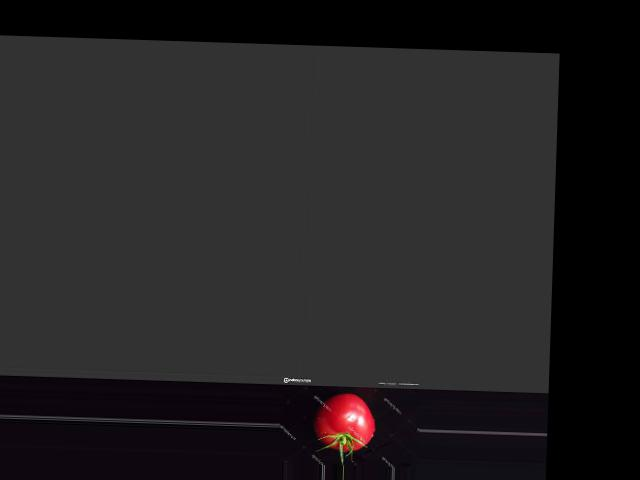tomato: (313, 392, 376, 452)
